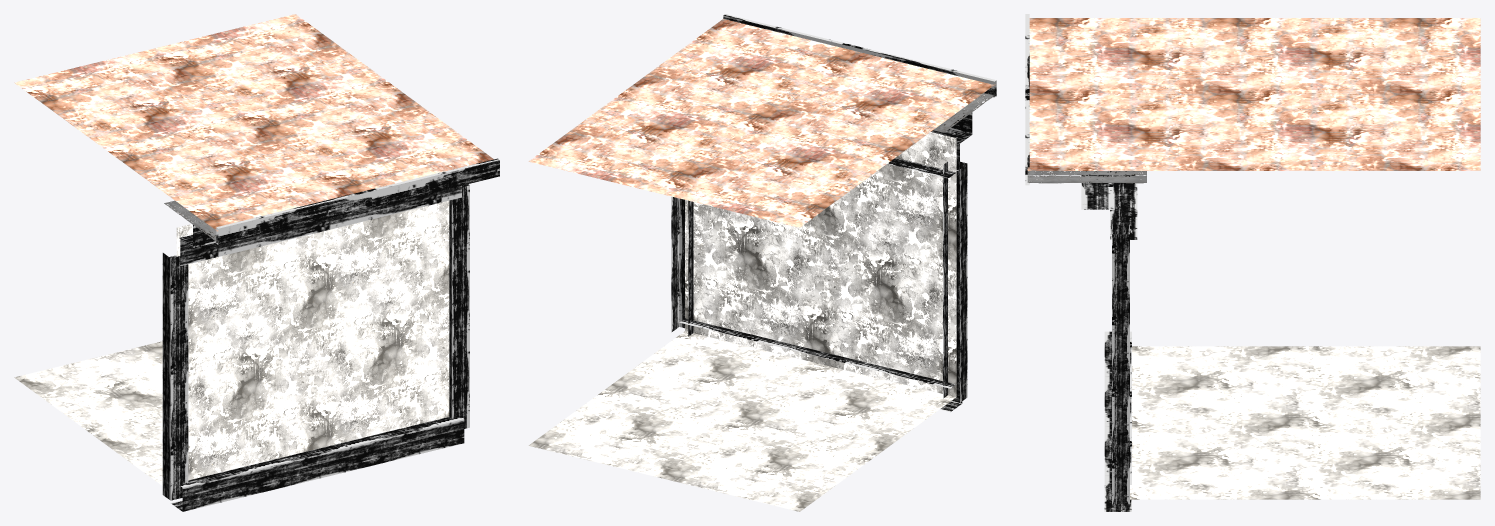
The model's file is SM_roof_A_part_01_03.fbx.
The picture shows the model from 3 angles, left to right: view 1: azimuth 30°, elevation 25°; view 2: azimuth 150°, elevation 25°; view 3: azimuth 270°, elevation 25°; orthographic projection. The views are drawn at different scales.
Parts seen in each view (by area): view 1: SM_roof_A_part_01_03_LOD0; view 2: SM_roof_A_part_01_03_LOD0; view 3: SM_roof_A_part_01_03_LOD0.
Part boxes in pixels (box(x1,y1,x2,y2)): SM_roof_A_part_01_03_LOD0: box(14, 14, 499, 511); SM_roof_A_part_01_03_LOD0: box(528, 14, 996, 511); SM_roof_A_part_01_03_LOD0: box(1025, 14, 1480, 511).
Bounding box in the file's own units: 425 × 503 × 420.
5 materials, 5 textured.
